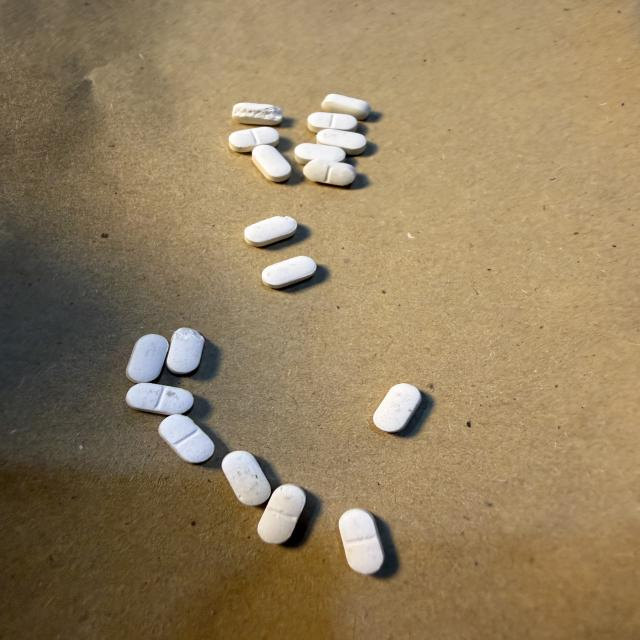pill: (339, 509, 384, 574), (258, 484, 306, 543), (159, 415, 214, 463), (222, 451, 270, 505), (373, 384, 421, 432), (126, 383, 193, 415), (126, 334, 168, 382), (166, 328, 204, 374), (262, 256, 316, 288), (245, 217, 296, 246), (252, 145, 291, 182), (304, 160, 356, 185), (229, 127, 279, 152), (322, 94, 370, 120), (317, 130, 366, 155), (294, 143, 345, 165), (232, 103, 282, 125), (308, 112, 357, 132)
